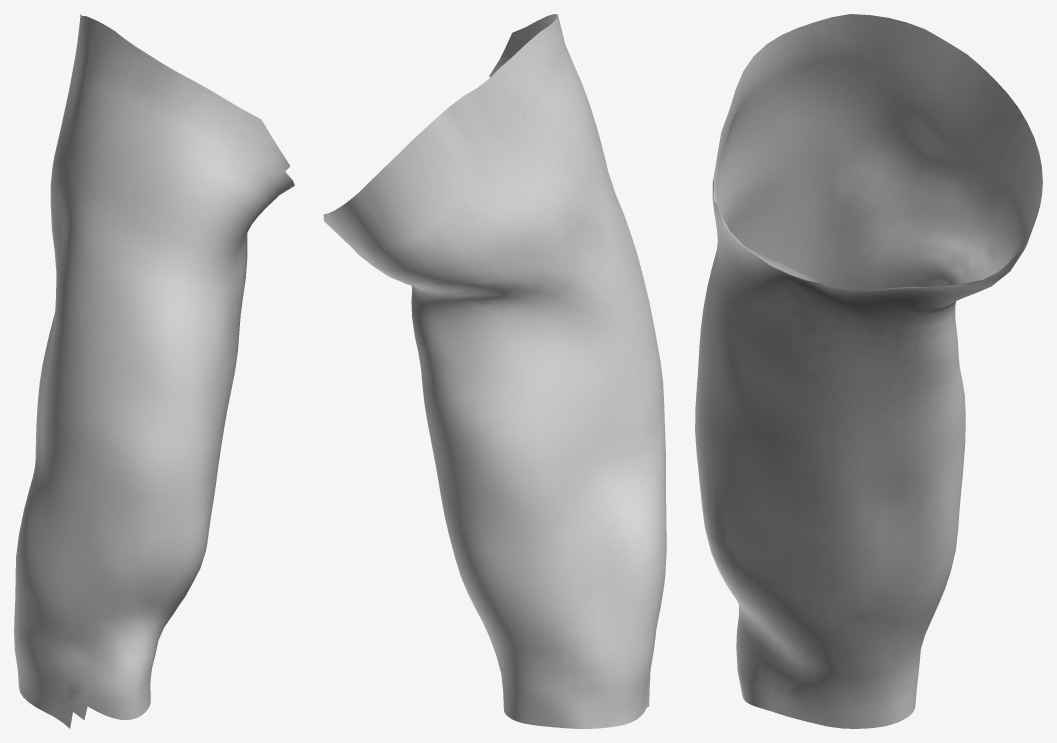
File: piernaDer.obj
3 renders of one model, left to right at view 1: azimuth 30°, elevation 25°; view 2: azimuth 150°, elevation 25°; view 3: azimuth 270°, elevation 25°, orthographic. The views are drawn at different scales.
Parts seen in each view (by area): view 1: piernaDer; view 2: piernaDer; view 3: piernaDer.
Part boxes in pixels (left/top/right/bottom): piernaDer: left=14, top=14, right=294, bottom=728; piernaDer: left=323, top=14, right=666, bottom=728; piernaDer: left=695, top=14, right=1042, bottom=728.
Bounding box in the file's own units: 0.0209 × 0.0528 × 0.0233.
Materials: 1 (1 with a texture image).
